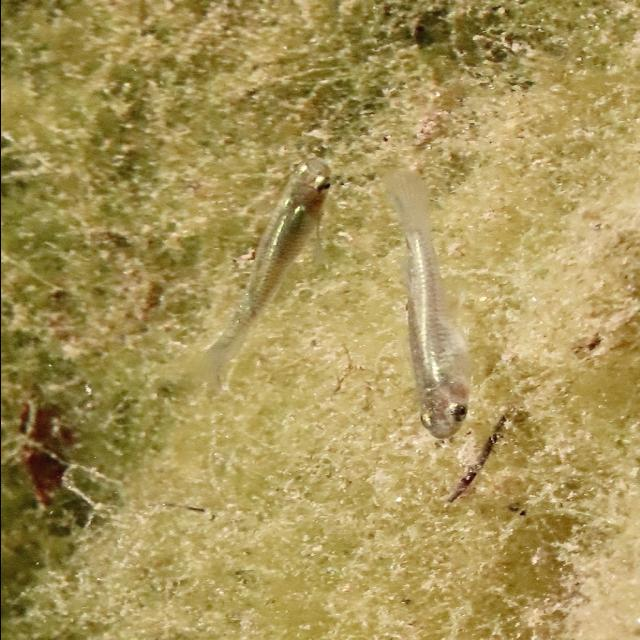Sivrisinek Baligi: (182, 156, 334, 385), (379, 166, 473, 440)
